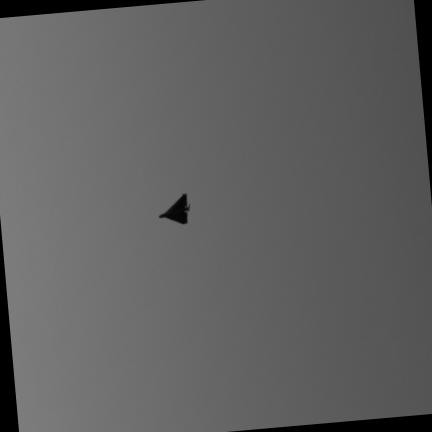Shahed: (159, 194, 189, 224)
